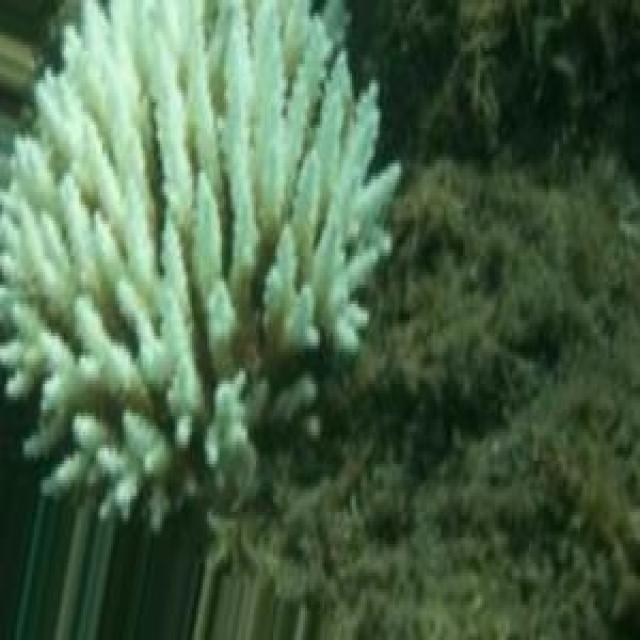Bleached: (3, 1, 400, 529)
